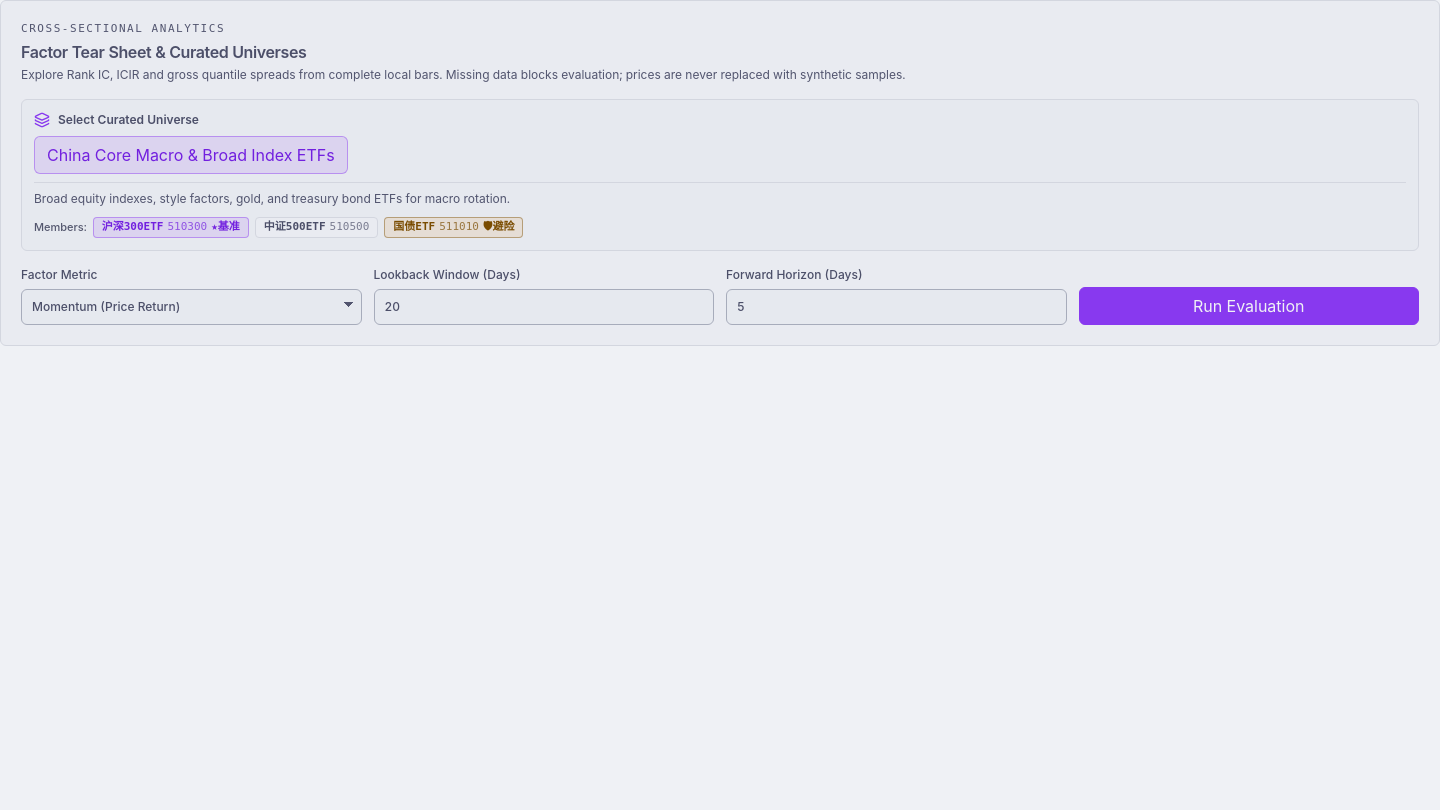
Test: FactorEvaluationPanel › labels real non-overlapping samples and gross diagnostics with their actual data interval
Click the button "Run Evaluation": (1249, 306) [1078, 287, 1419, 325]
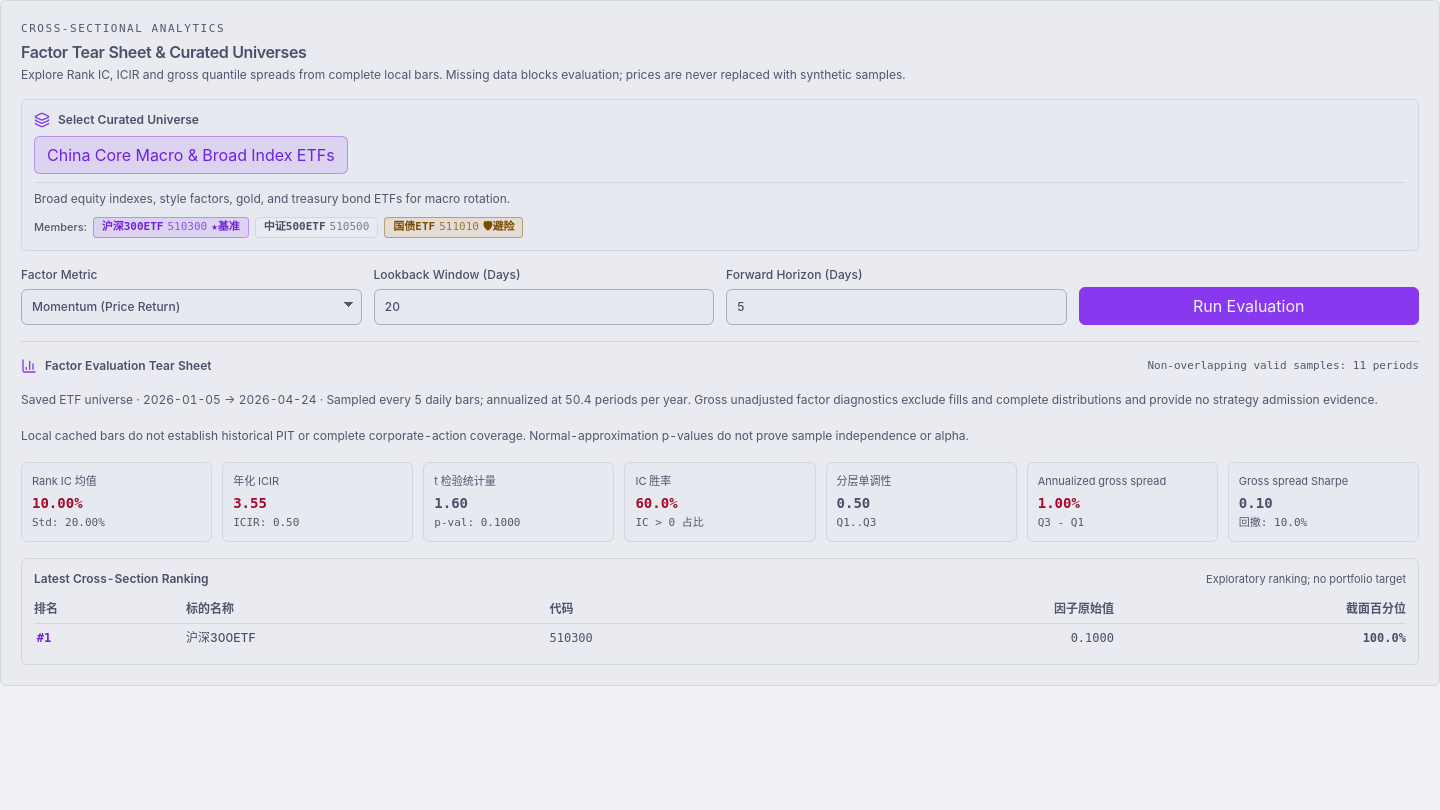
Result: the text "Non-overlapping valid samples: 11 periods" is shown at [1148, 358, 1419, 374]
Result: the text "annualized at 50.4 periods per year" is shown at [326, 392, 1378, 407]
Result: the text "Annualized gross spread" is shown at [1038, 474, 1166, 488]
